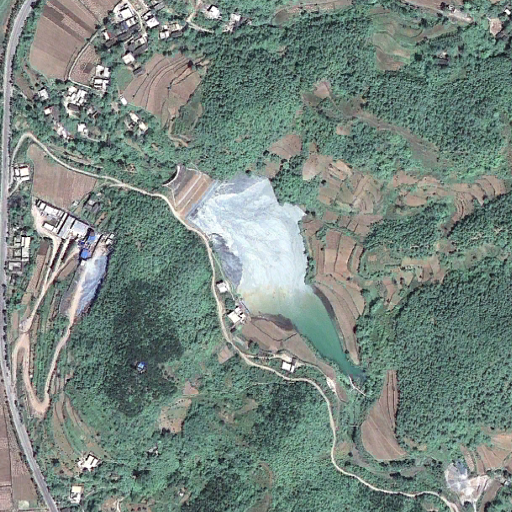tp: (164, 165, 365, 382)
